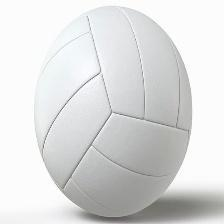Sports-Ball: (29, 8, 193, 219)
